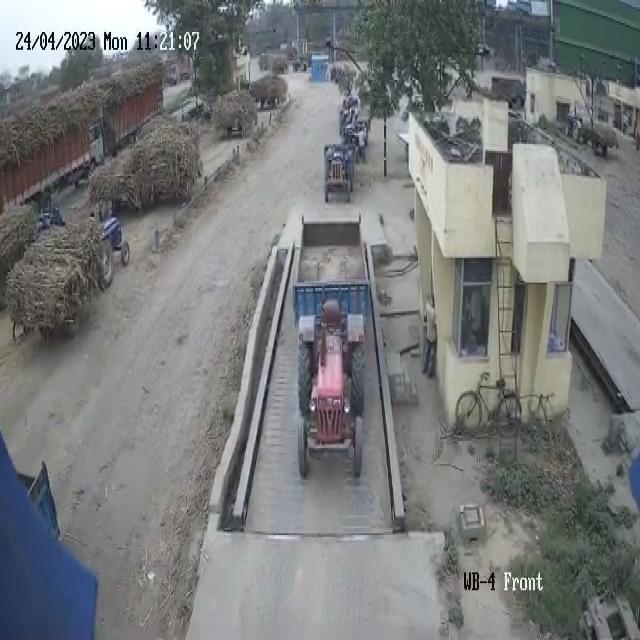Tratores - v5 YOLO V8L 2024-11-13: (288, 303, 372, 483), (91, 201, 134, 296), (322, 132, 360, 208)
